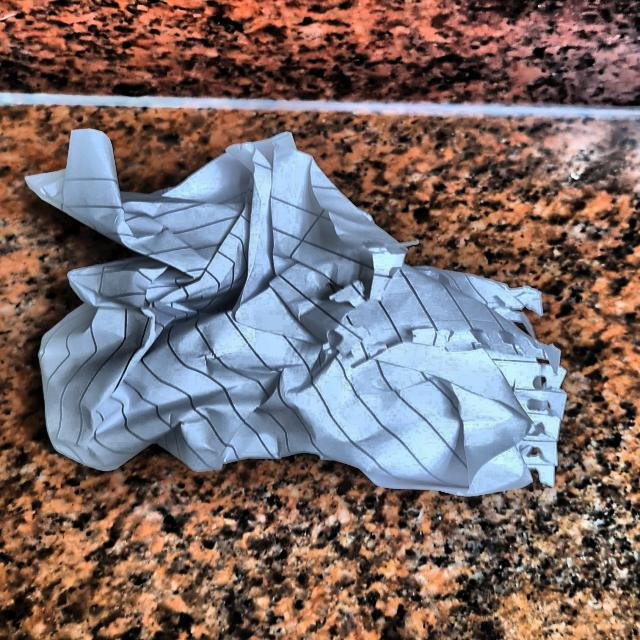paper: (28, 119, 596, 487)
